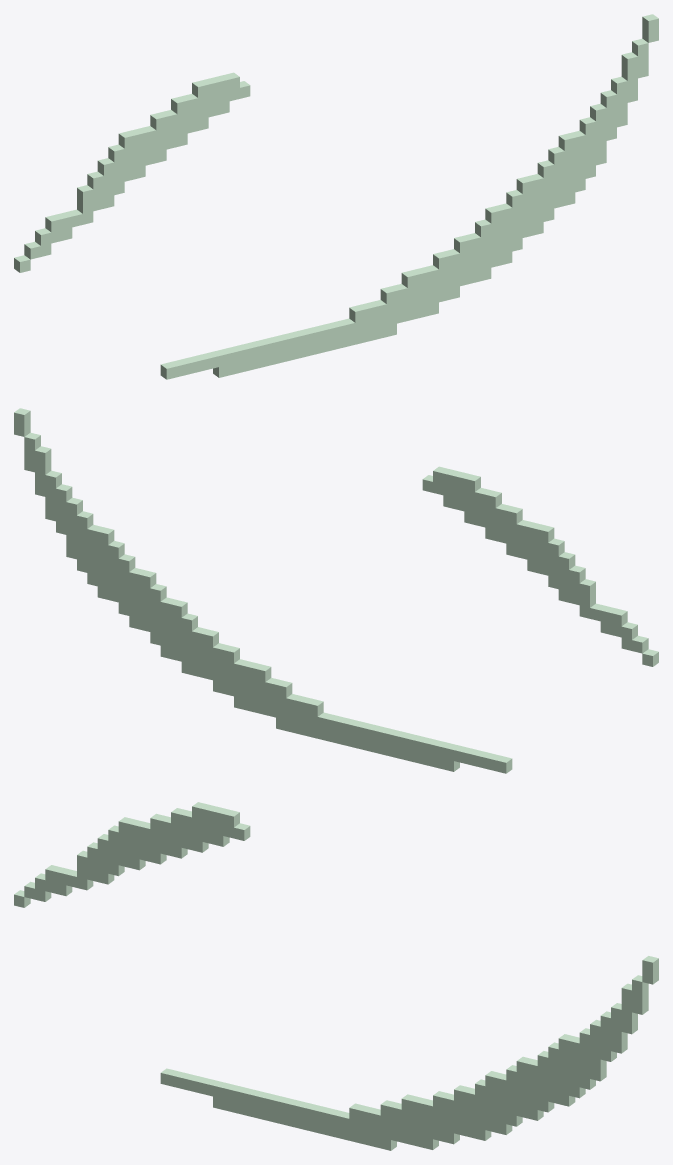
File: Fight_103_2_14_fx.obj
3 views of the same model, one above another, from view 1: azimuth 30°, elevation 25°; view 2: azimuth 150°, elevation 25°; view 3: azimuth 330°, elevation 25° (orthographic).
Size of the model in its own units: 6.1 by 2.7 by 0.1.
Materials: 1 (1 with a texture image).
